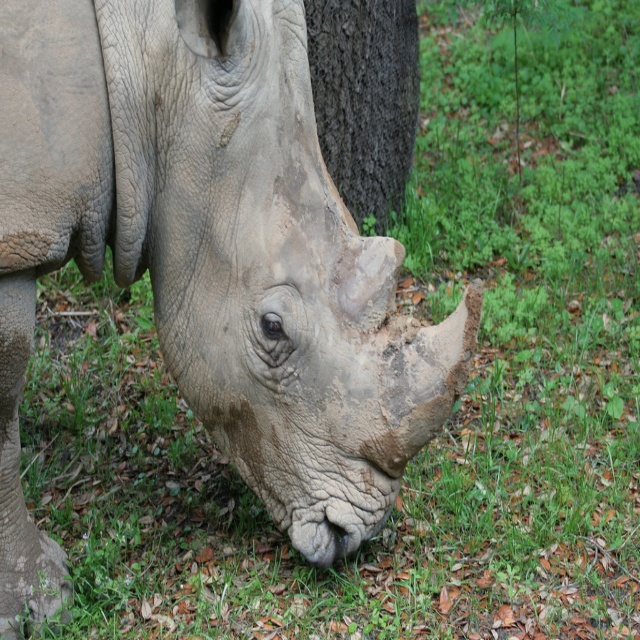Rhinoceros: (0, 0, 484, 639)
